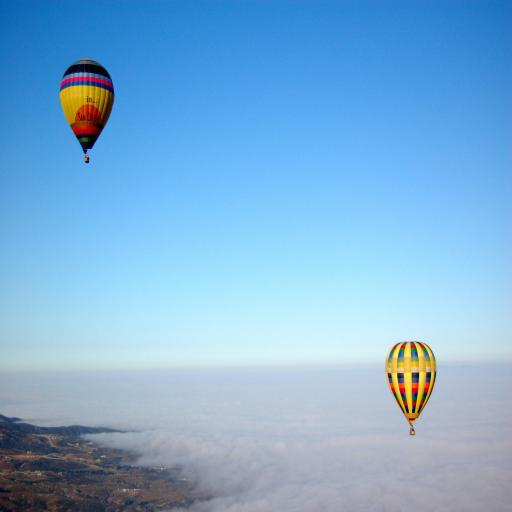hot air ballon: (59, 58, 115, 164), (385, 341, 436, 435)
